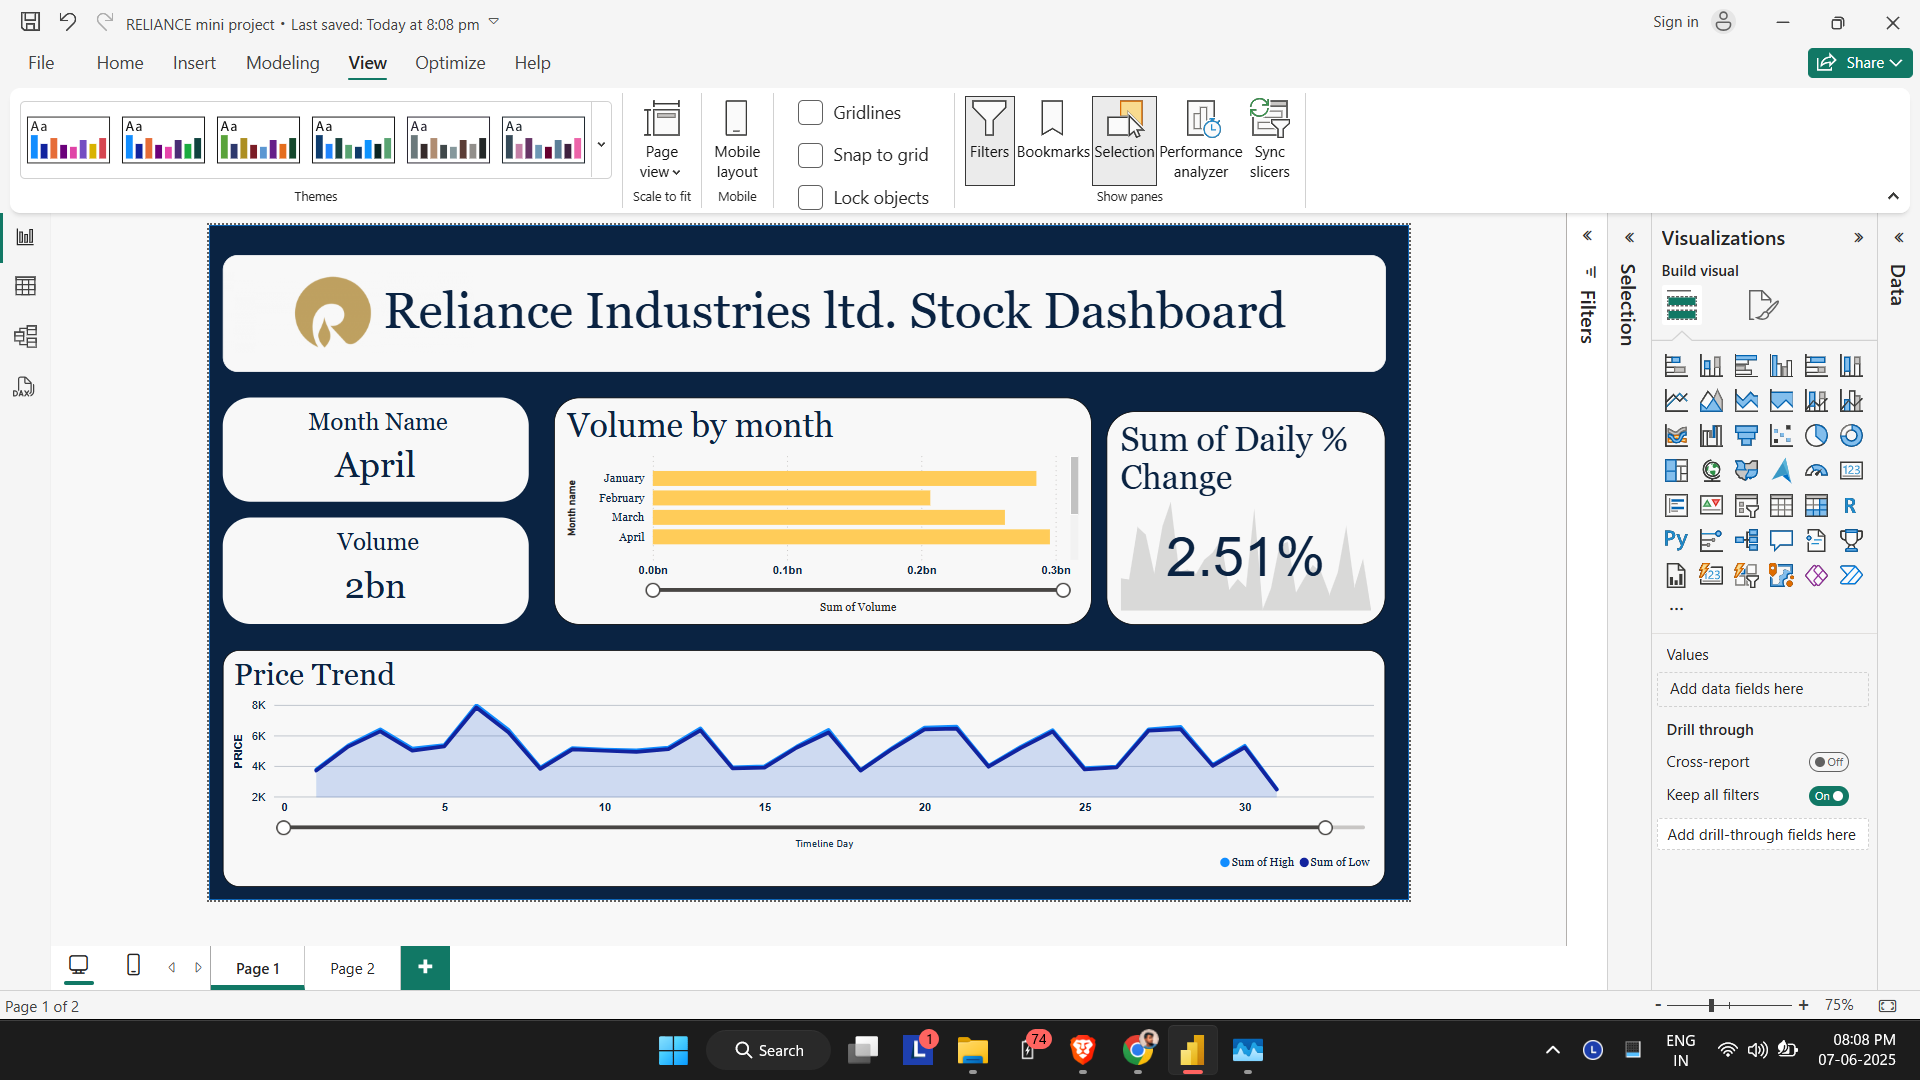

The dashboard page shown, as its layout file describes it:
{"tool":"powerbi","page":{"name":"Page 1","canvas":[1280,720],"ordinal":0},"visuals":[{"type":"shape","box":[0,0,1280,720],"z":0},{"type":"lineChart","title":"Price Trend","fields":{"Category":["reliance_stock_data.Date.Variation.Date Hierarchy.Day"],"Y":["Sum(reliance_stock_data.High)","Sum(reliance_stock_data.Low)"]},"box":[14.9,452.8,1240.2,252.5],"z":1000},{"type":"barChart","title":"Volume by month","fields":{"Y":["Sum(reliance_stock_data.Volume)"],"Category":["reliance_stock_data.Date.Variation.Date Hierarchy.Month"]},"box":[368.2,184.1,573.5,242.6],"z":2000},{"type":"kpi","title":"Sum of Daily % Change","fields":{"Indicator":["Sum(reliance_stock_data.Daily % Change)"],"TrendLine":["reliance_stock_data.Date.Variation.Date Hierarchy.Day"]},"box":[957.8,199,297.3,227.6],"z":3000},{"type":"textbox","box":[15.1,31.6,1240.5,124.9],"z":4000},{"type":"card","title":"Month Name","fields":{"Values":["Min(reliance_stock_data.Date.Variation.Date Hierarchy.Month)"]},"box":[15,183.8,326.2,111.2],"z":5000},{"type":"image","box":[0,23.3,288.2,141.3],"z":6000},{"type":"card","title":"Volume","fields":{"Values":["Sum(reliance_stock_data.Volume)"]},"box":[15,312.5,326.2,113.8],"z":7000}]}

Visuals, with their boxes on the page's 1280x720 design canvas (x1, y1, x2, y2). These are canvas units, not pixel positions in the 1920x1080 screenshot, which may show the page scaled, cropped or inside an application window:
shape: {"x1": 0, "y1": 0, "x2": 1280, "y2": 720}
"Price Trend" lineChart: {"x1": 15, "y1": 453, "x2": 1255, "y2": 705}
"Volume by month" barChart: {"x1": 368, "y1": 184, "x2": 942, "y2": 427}
"Sum of Daily % Change" kpi: {"x1": 958, "y1": 199, "x2": 1255, "y2": 427}
textbox: {"x1": 15, "y1": 32, "x2": 1256, "y2": 156}
"Month Name" card: {"x1": 15, "y1": 184, "x2": 341, "y2": 295}
image: {"x1": 0, "y1": 23, "x2": 288, "y2": 165}
"Volume" card: {"x1": 15, "y1": 312, "x2": 341, "y2": 426}
